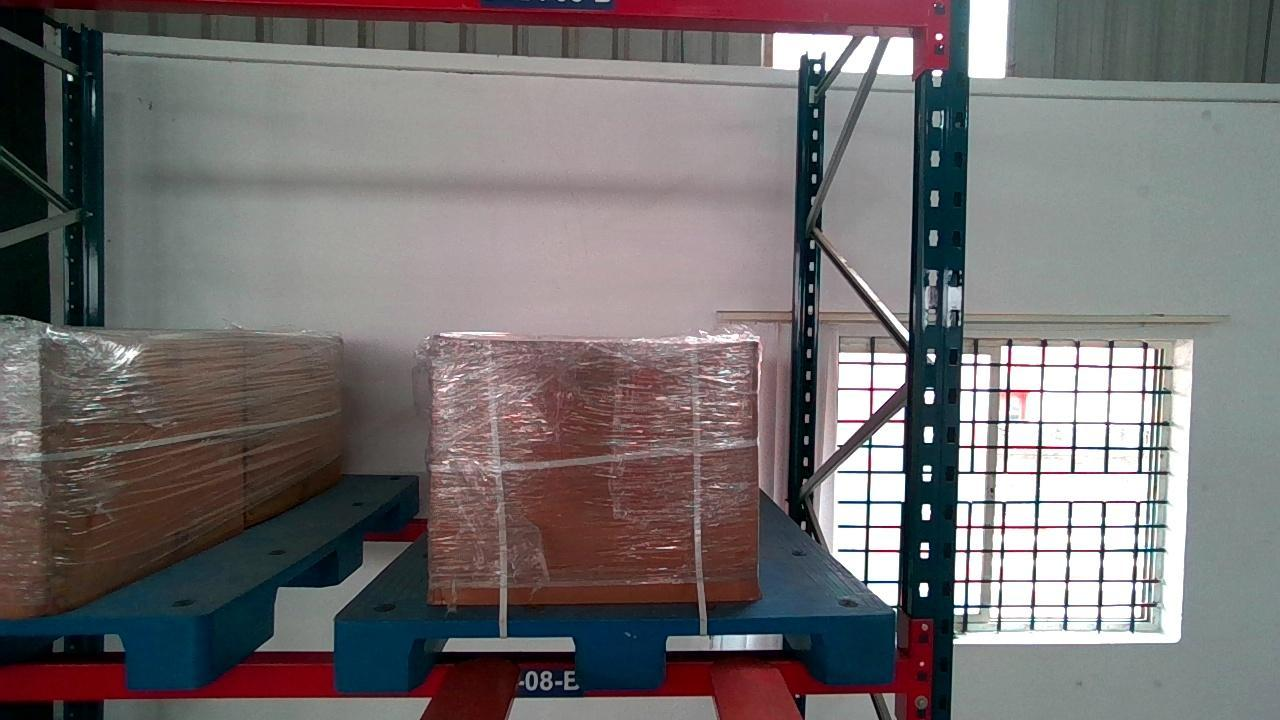h_rack: (0, 660, 920, 700)
small_pallet: (333, 612, 891, 686)
